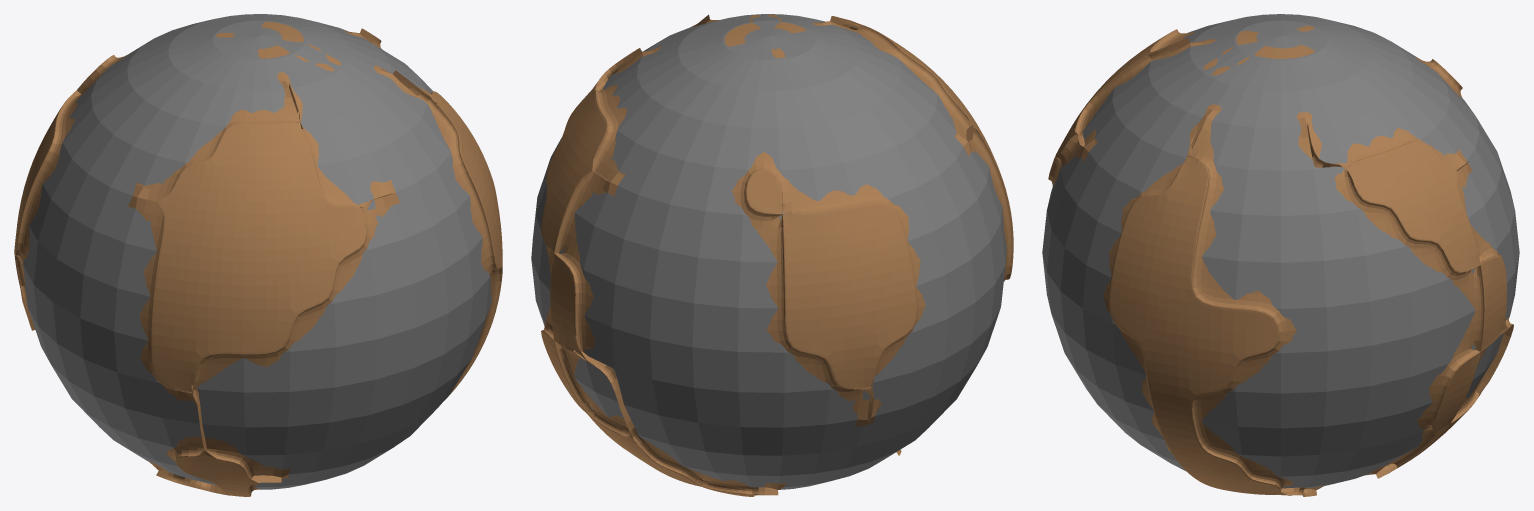
Rendered from planeta Toph.fbx.
3 views of the same model, side by side, from view 1: azimuth 30°, elevation 25°; view 2: azimuth 150°, elevation 25°; view 3: azimuth 270°, elevation 25° (orthographic).
Parts seen in each view (by area): view 1: Sphere.001, Sphere; view 2: Sphere.001, Sphere; view 3: Sphere.001, Sphere.
Part boxes in pixels (x1=…): Sphere.001: x1=23, y1=14, x2=491, y2=489; Sphere: x1=14, y1=21, x2=502, y2=496; Sphere.001: x1=531, y1=14, x2=1006, y2=489; Sphere: x1=541, y1=14, x2=1013, y2=496; Sphere.001: x1=1042, y1=14, x2=1519, y2=489; Sphere: x1=1048, y1=25, x2=1513, y2=496.
Bounding box in the file's own units: 203 × 200 × 200.
